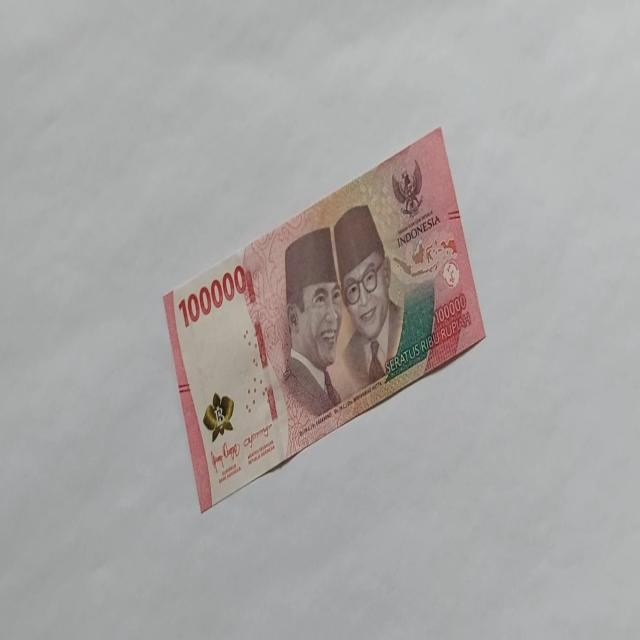seratus ribu rupiah: (162, 125, 486, 513)
